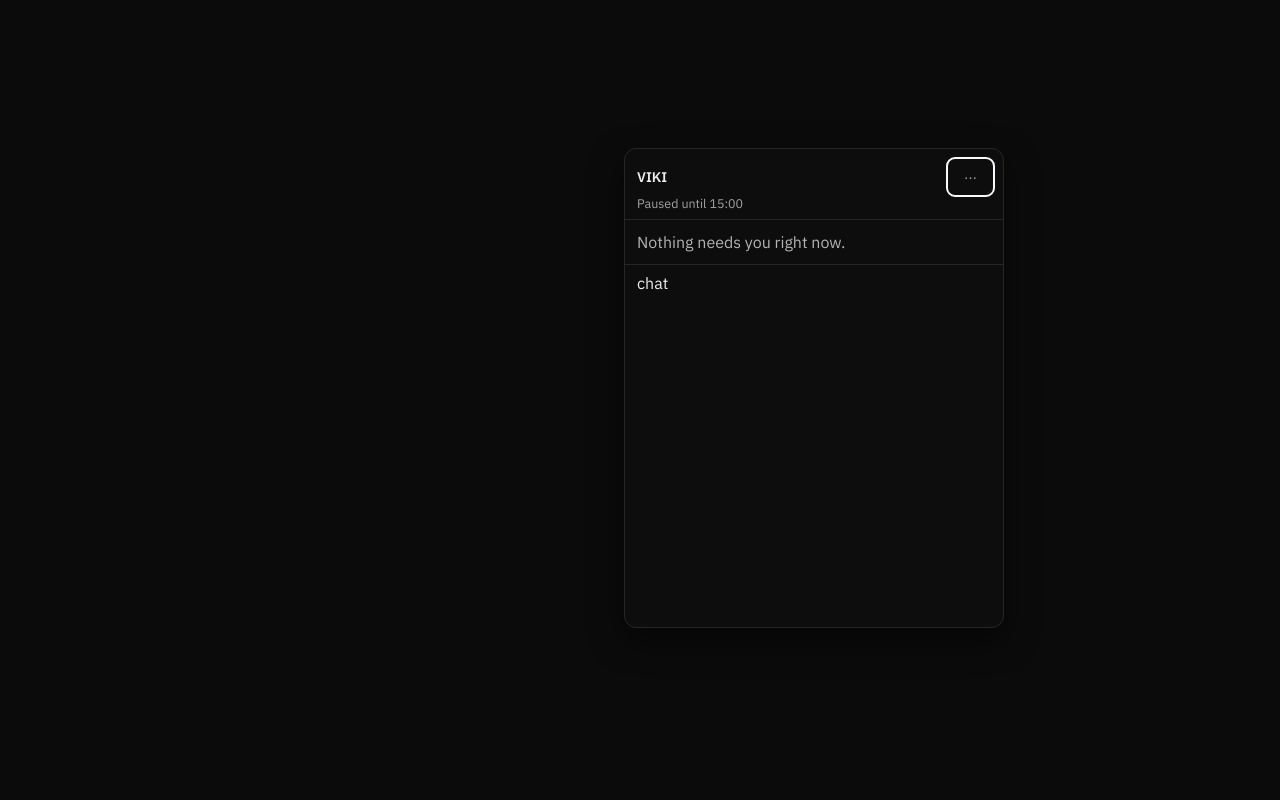
Test: the header menu › paused: Resume instead of the two pause rows
Click the button named "More": {"x": 970, "y": 177} [950,161,991,193]
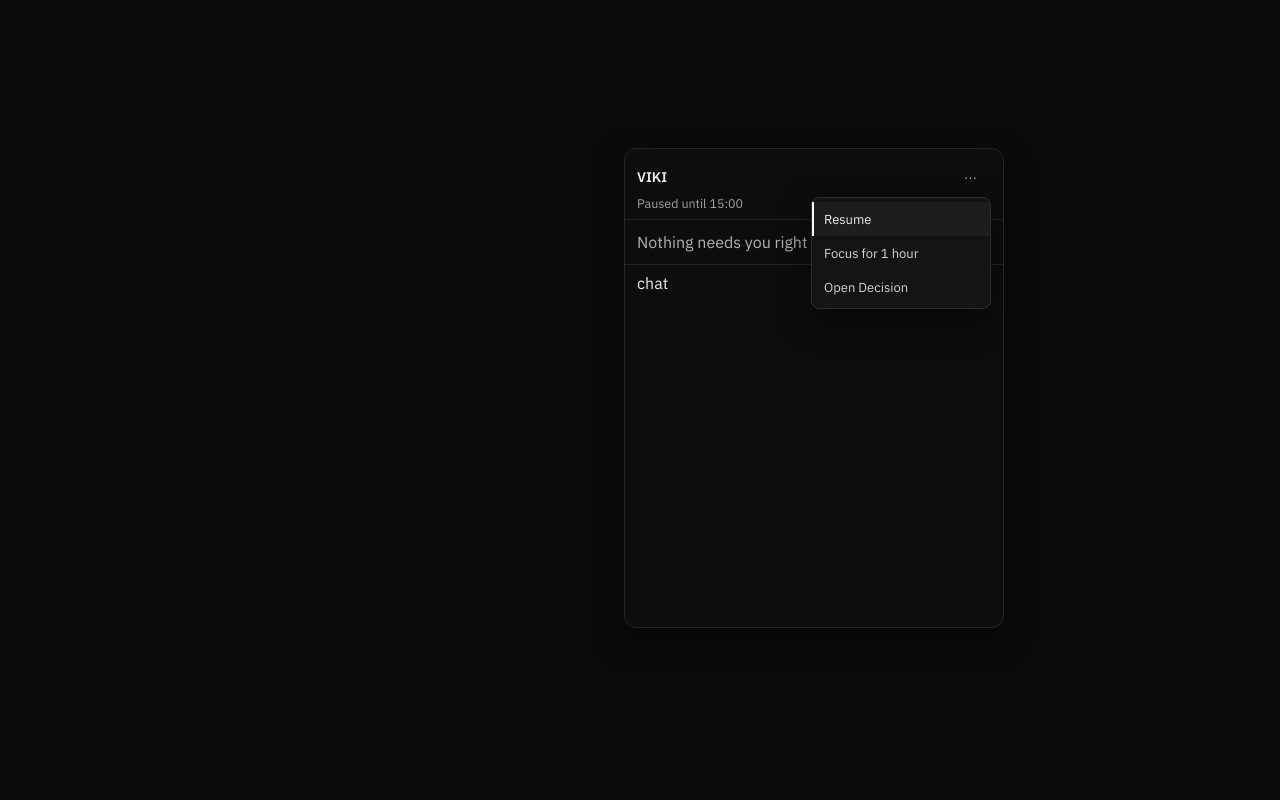
Expected: the menu items read "Resume", "Focus for 1 hour", "Open Decision", in this order, [812,202,990,236]; [812,236,990,270]; [812,270,990,304]
